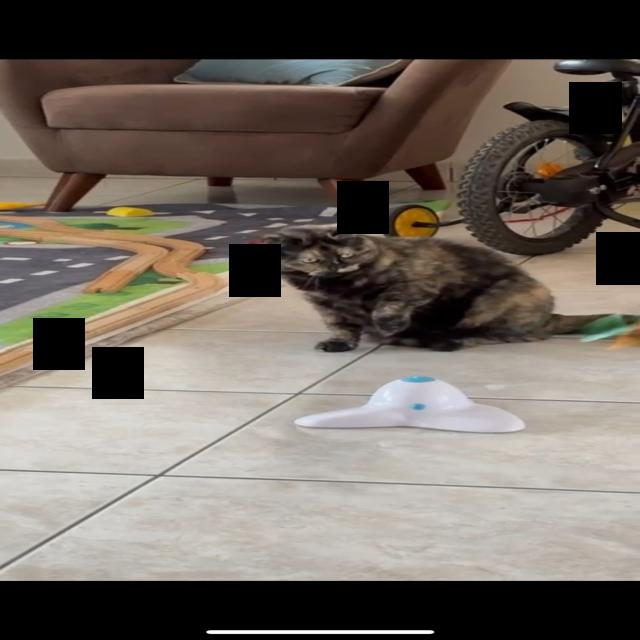authorized: (251, 221, 639, 353)
